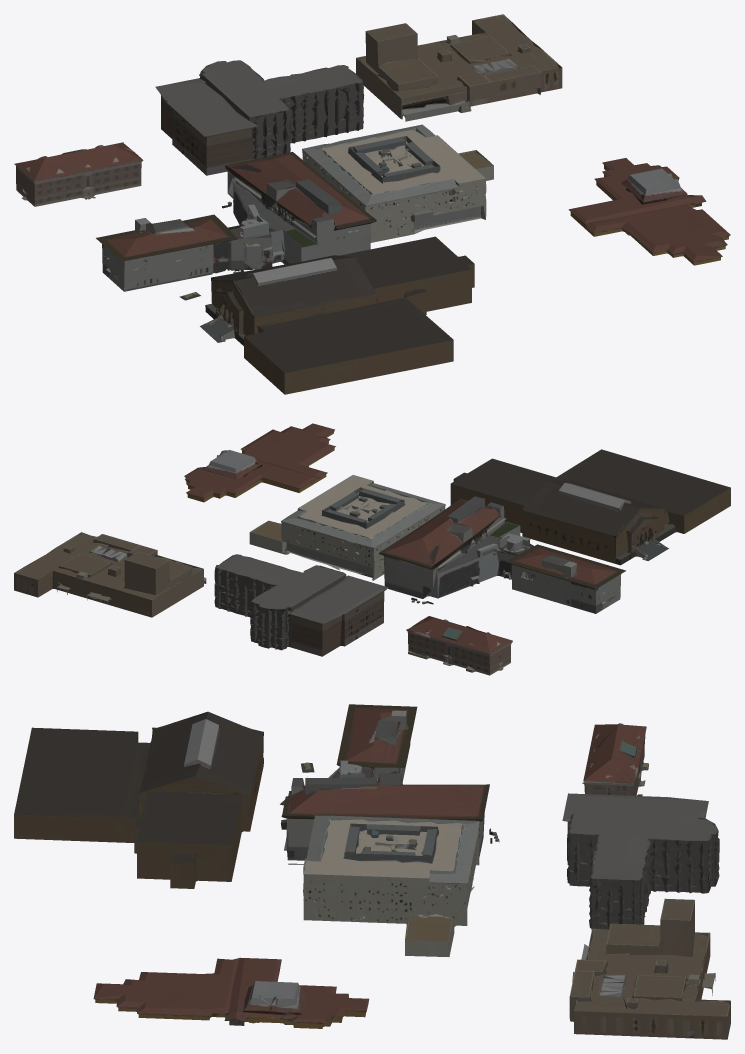
The model's file is t_1_0.coat.glb.
3 renders of one model, top to bottom at view 1: azimuth 30°, elevation 25°; view 2: azimuth 150°, elevation 25°; view 3: azimuth 270°, elevation 25°, orthographic. The views are drawn at different scales.
Parts seen in each view (by area): view 1: far; view 2: far; view 3: far.
Boxes of the visible parts, bbox=[...] form: far: bbox=[14, 14, 730, 394]; far: bbox=[14, 423, 730, 675]; far: bbox=[14, 704, 730, 1039].
Size of the model in its own units: 294 by 29.74 by 299.
Materials: 1 (1 with a texture image).
